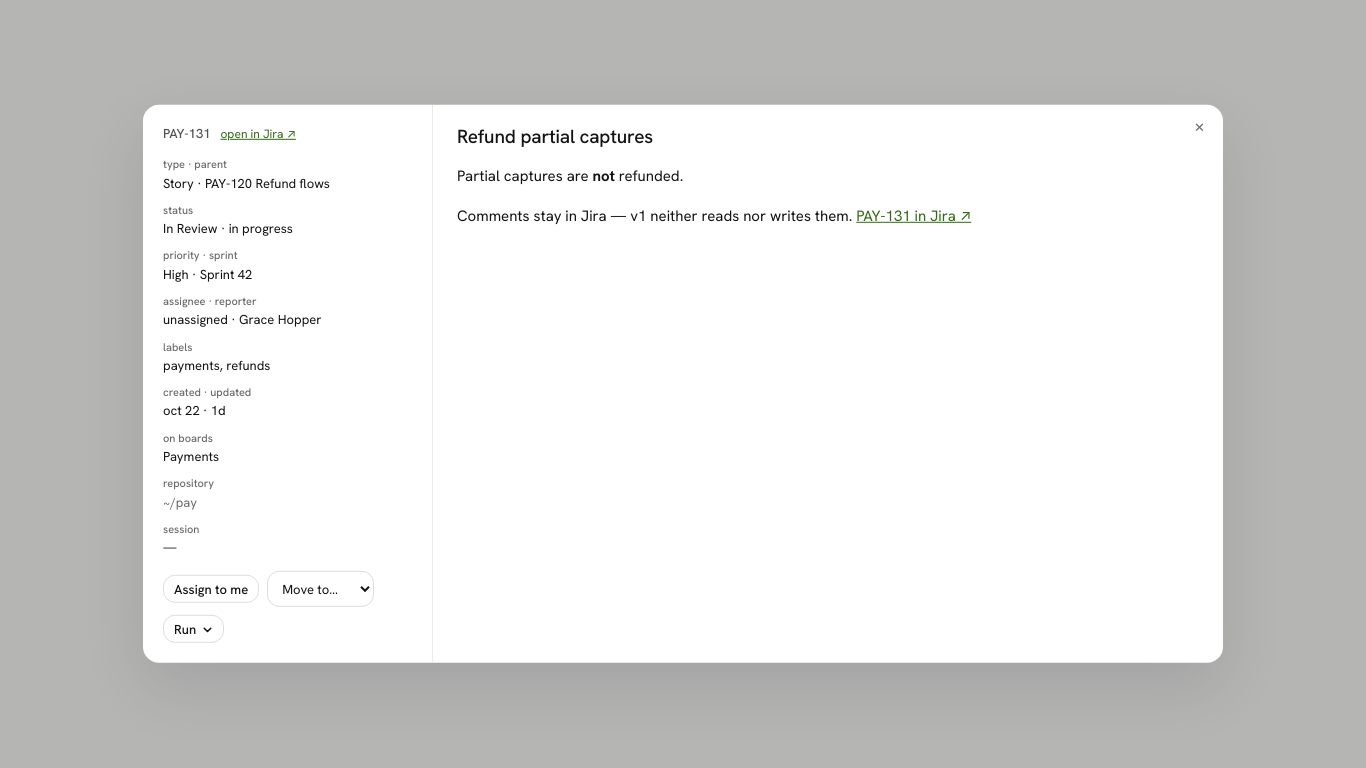
JiraIssueModal — Assign to me and Move to… (Jira phase 3) › draws a refusal's own sentence in an alert, keeps the modal open and both controls usable, and nudges nothing
Check: the text "not" is shown, box x1=592 y1=166 x2=615 y2=186
Click the button "Assign to me".
click(211, 589)  # box x1=163 y1=575 x2=259 y2=603
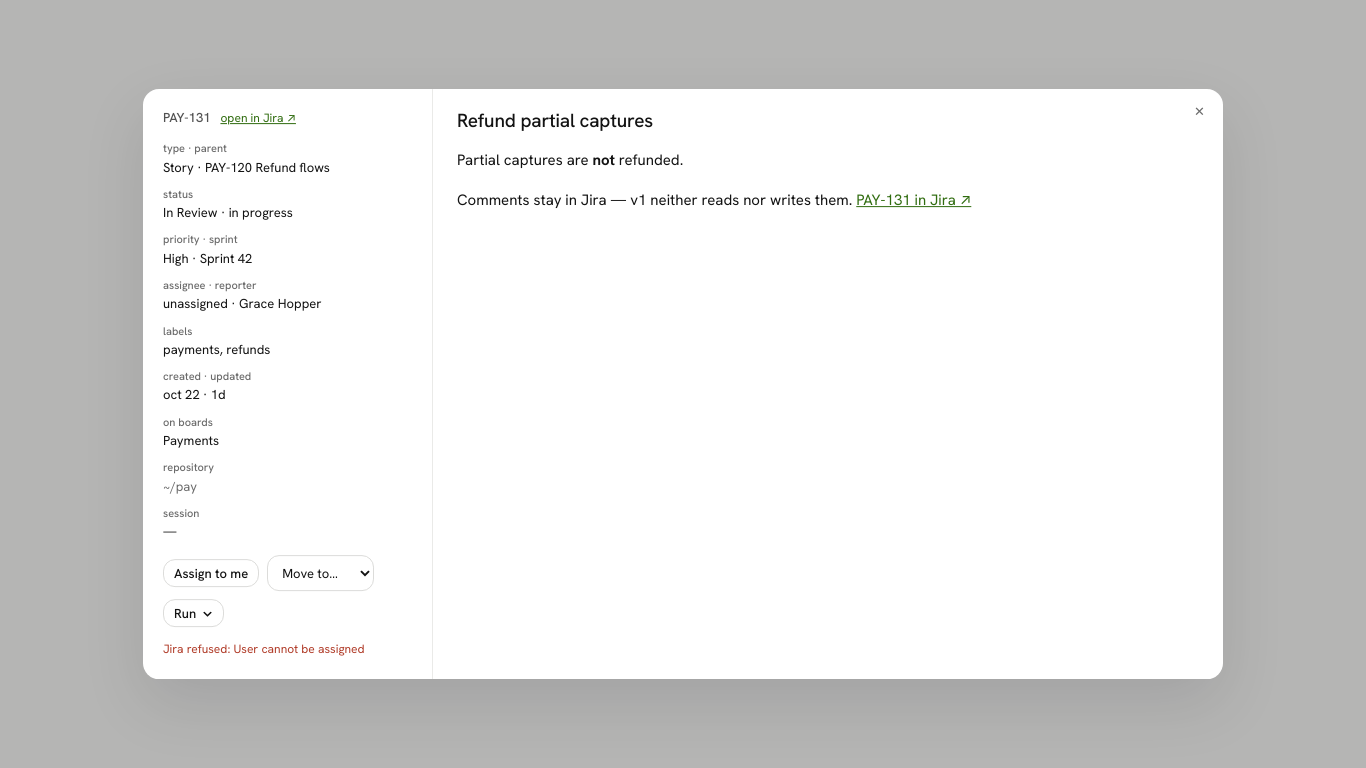
Check: the button "Assign to me" is enabled, box x1=163 y1=560 x2=259 y2=588
Check: the message reads "Jira refused: User cannot be assigned", box x1=163 y1=642 x2=365 y2=658
